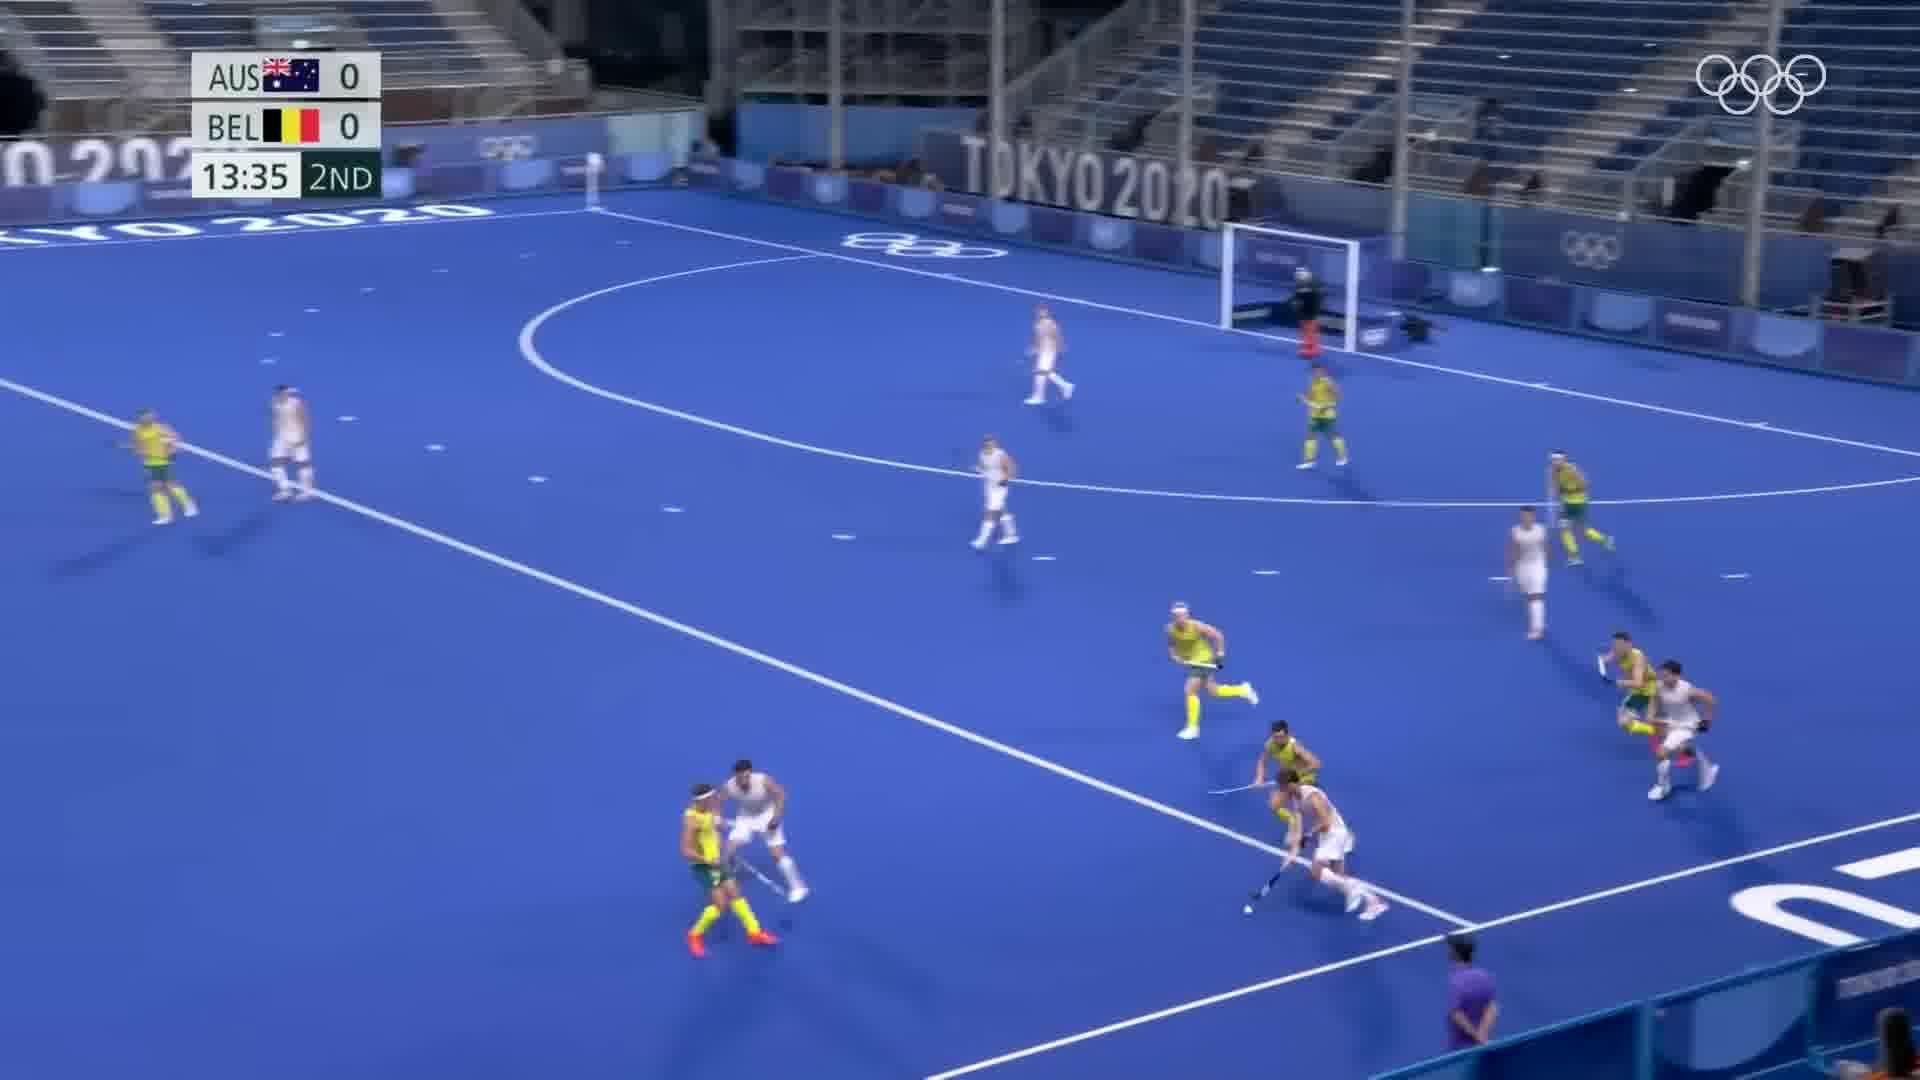ball: (1237, 903, 1257, 929)
